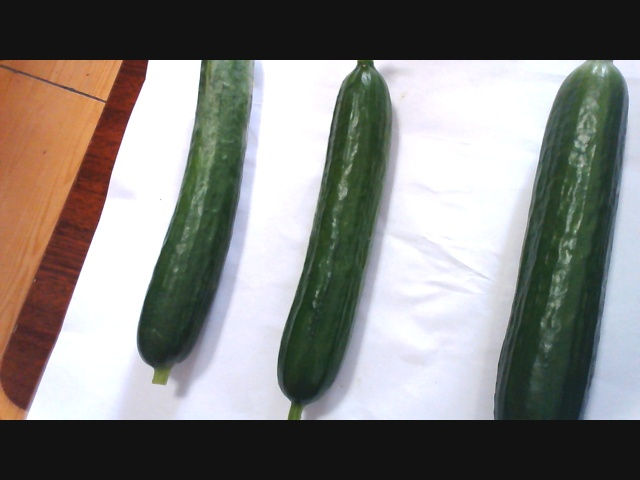cucumber: (492, 59, 630, 415), (274, 61, 408, 411), (121, 58, 258, 384)
